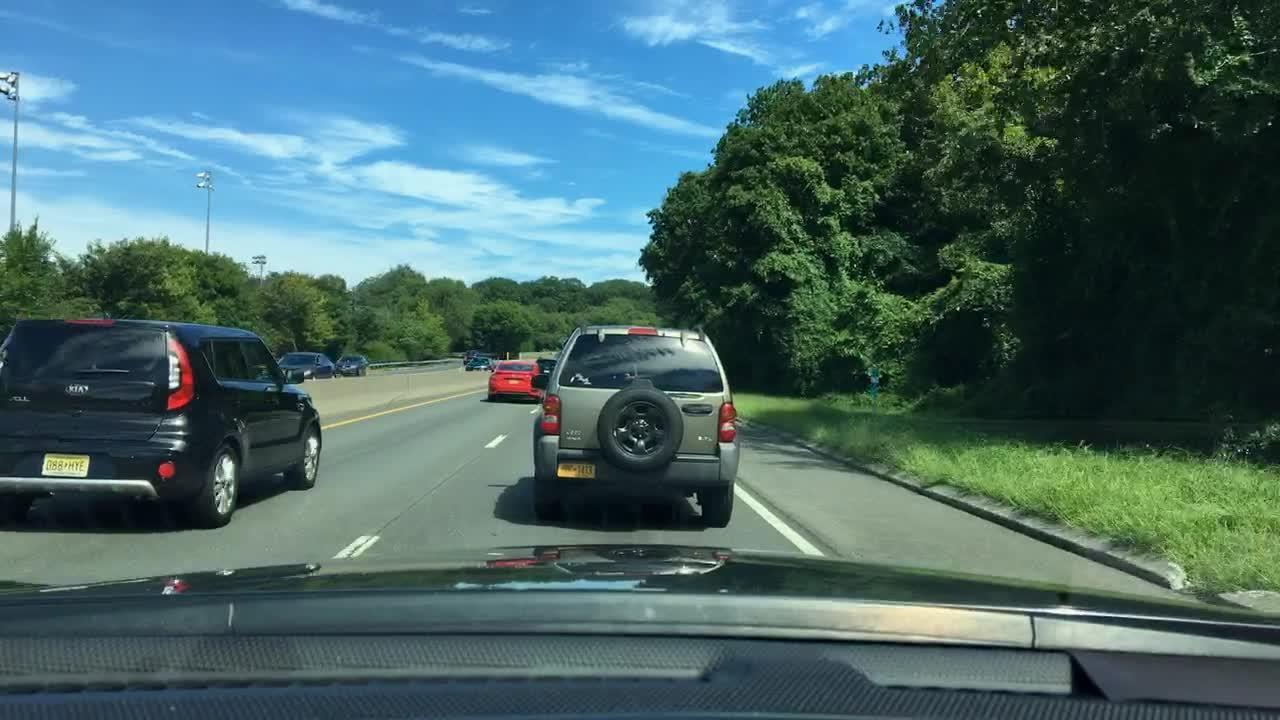kia: (58, 376, 98, 402)
